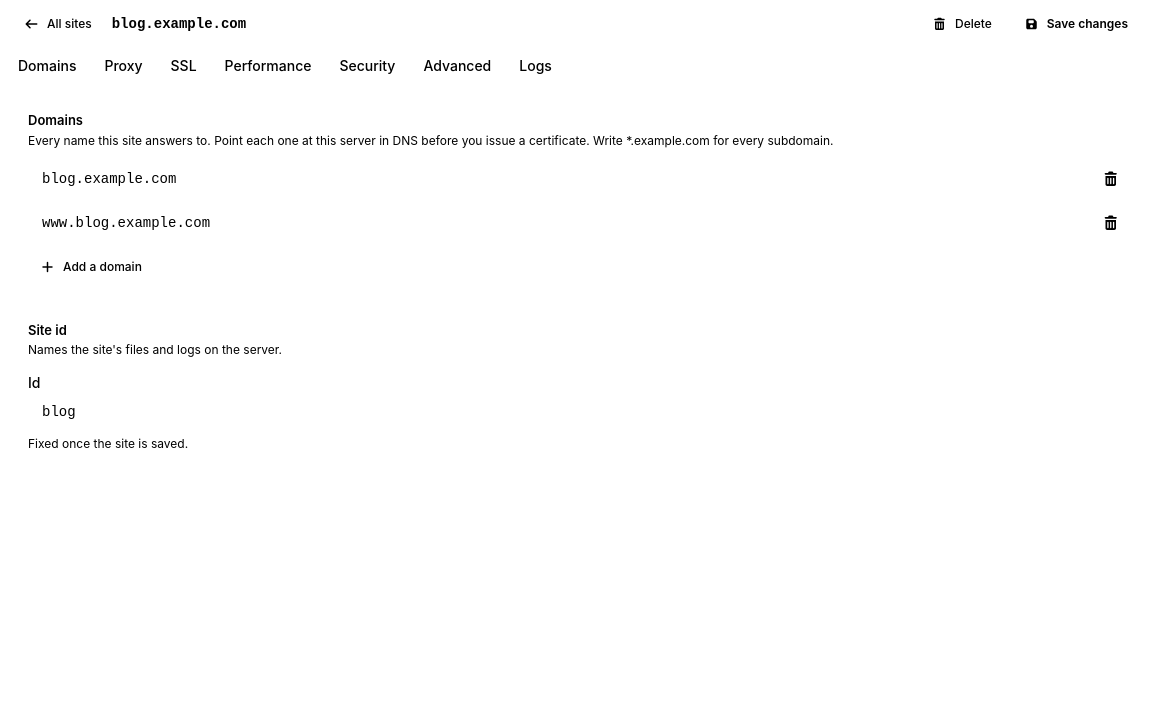
Test: SiteEditor for a saved site › keeps the site when the delete is cancelled, and says why one failed
The width and height of the screenshot is (1152, 720).
What coordinates should you click on to do the following:
click the button "Delete"
I would click on:
 (962, 24)
Its box is [920,10,1004,38].
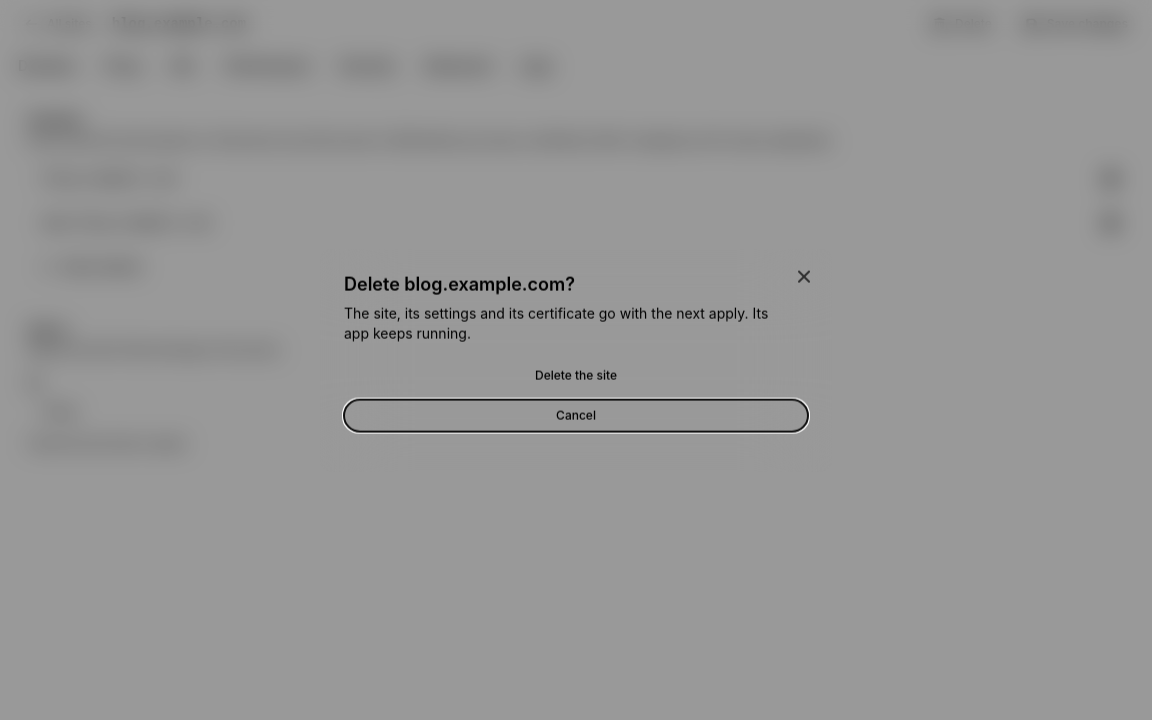
What coordinates should you click on to do the following:
click the button "Cancel"
I would click on:
 (576, 415)
Its box is [344,399,808,431].
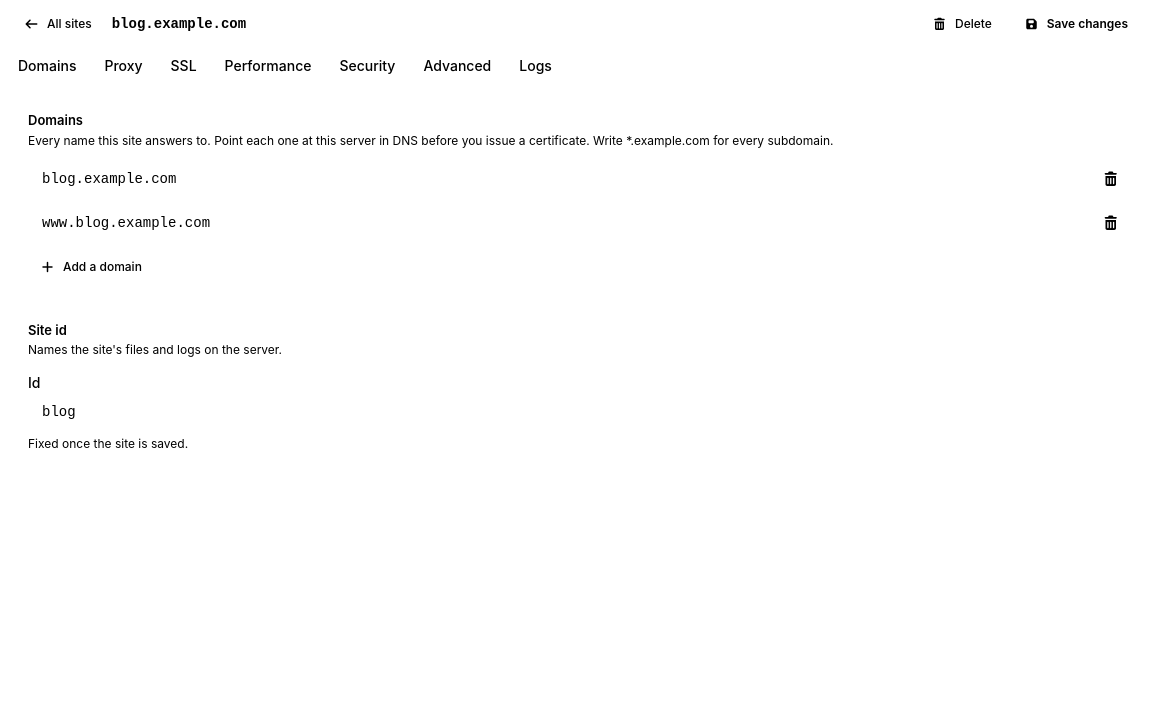
What coordinates should you click on to do the following:
click the button "Delete"
I would click on:
 (962, 24)
Its box is [920,10,1004,38].
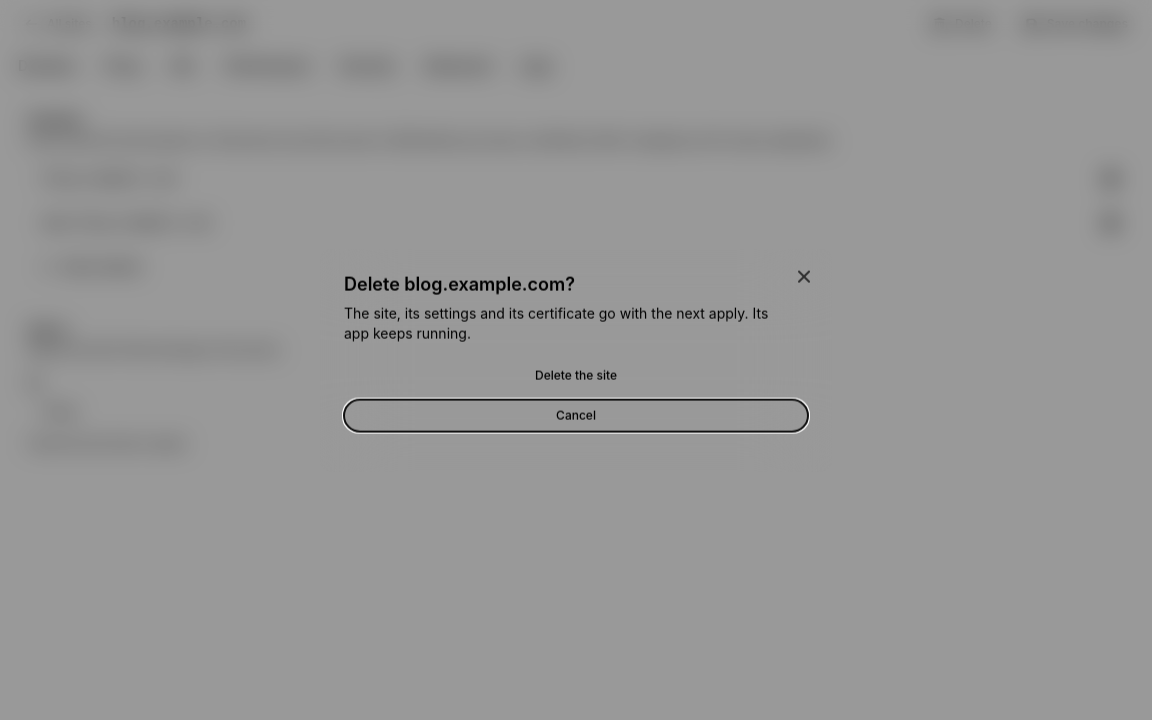
What coordinates should you click on to do the following:
click the button "Delete the site"
I would click on:
 (576, 375)
Its box is [344,359,808,391].
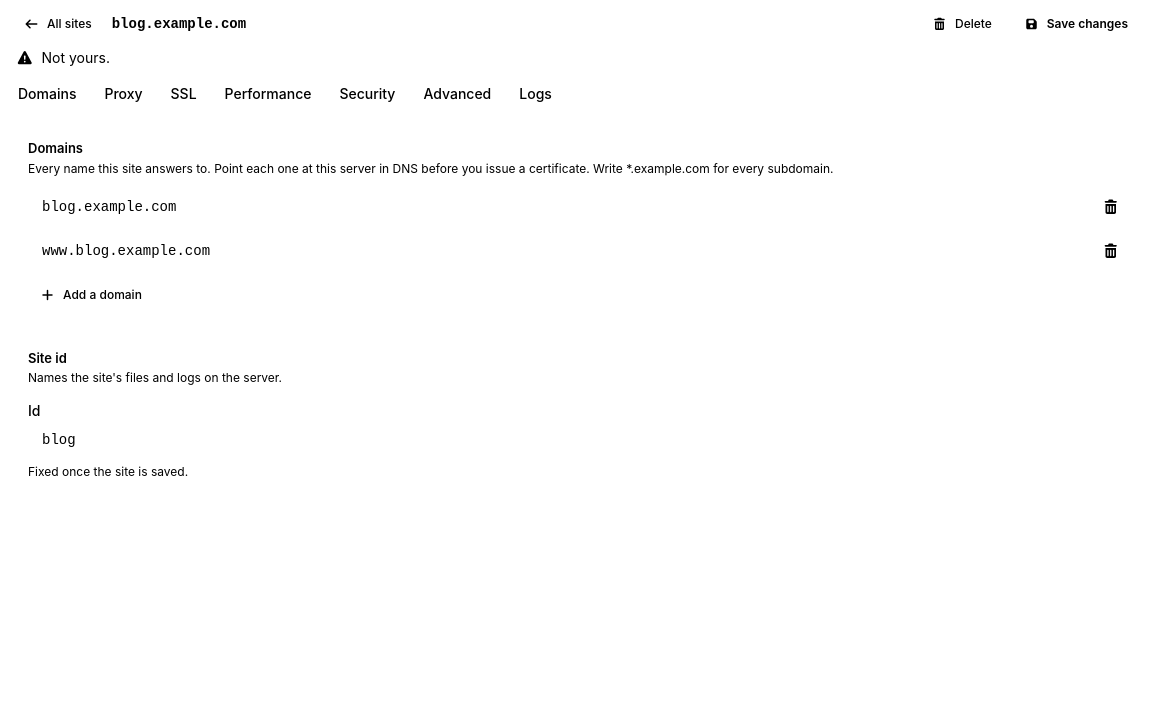
Expected: the text "Not yours." is shown, [16,49,110,66]
